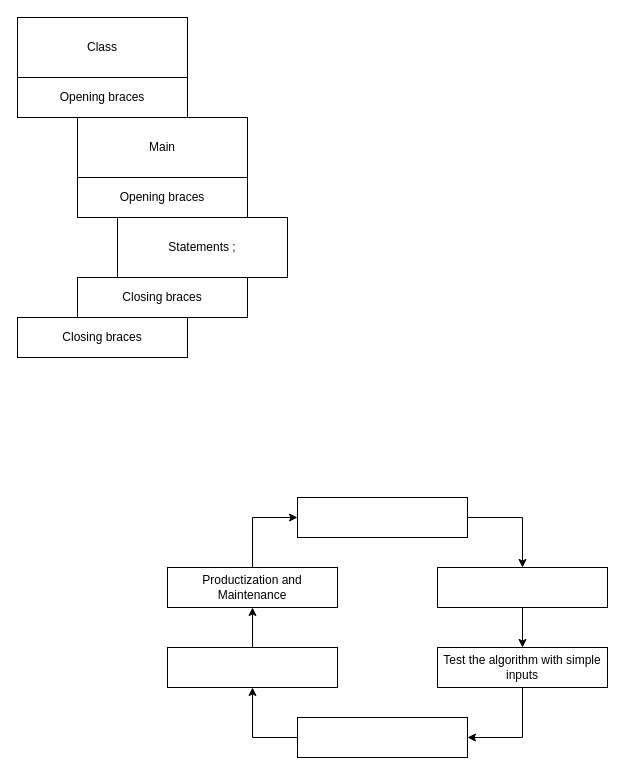
The diagram is 625 pixels wide and 775 high, and some of its shapes have lost their labels. Here are the shapes that lost their labels. From the top down, the centre of each, then its label:
At (x=382, y=517): "Understand the problem".
At (x=522, y=587): "Develop and describe and algorithm".
At (x=252, y=667): "Compile and test your program".
At (x=382, y=737): "Translate the algorithm into Java".
